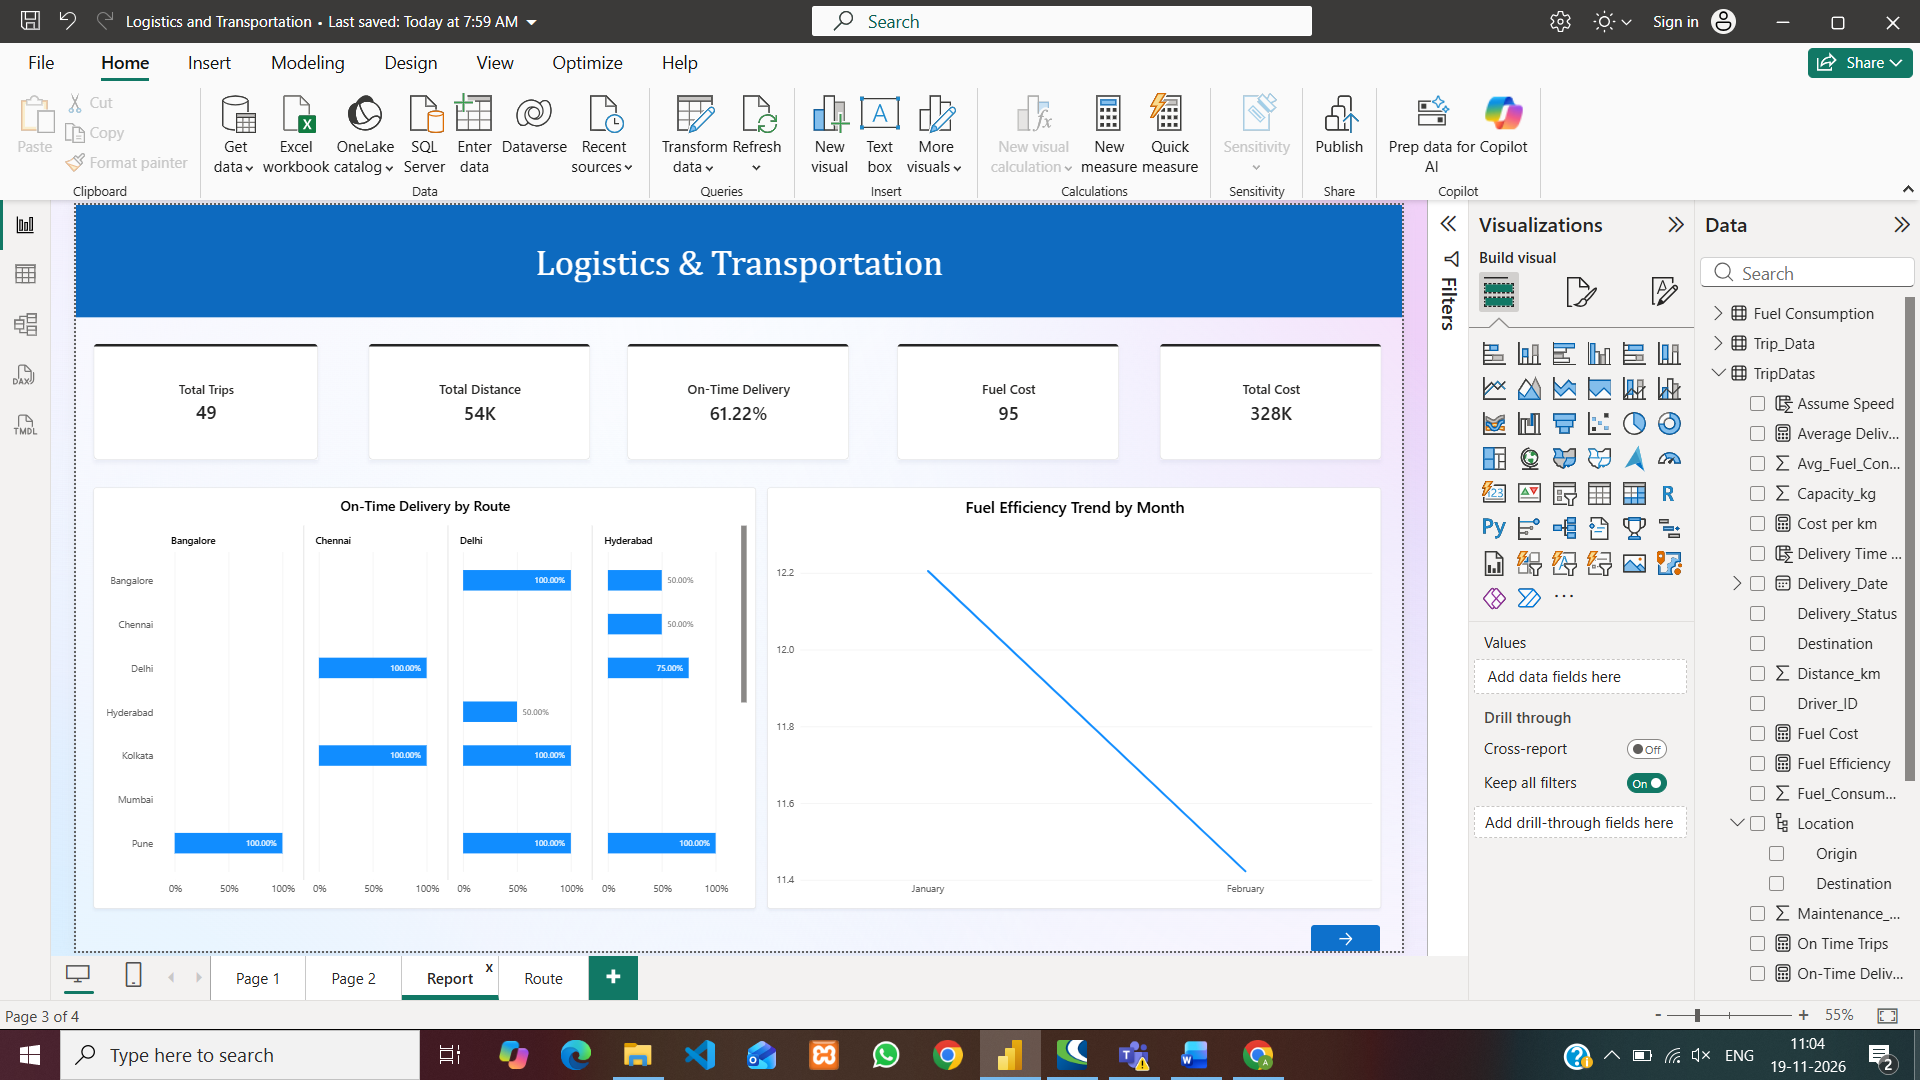

The dashboard page shown, as its layout file describes it:
{"tool":"powerbi","page":{"name":"Report","canvas":[1920,1080],"ordinal":2},"visuals":[{"type":"shape","title":"Logistics & Transportation","box":[0,0,1920.4,162.6],"z":0},{"type":"clusteredBarChart","title":"On-Time Delivery by Route","fields":{"Category":["TripDatas.Destination"],"Rows":["TripDatas.Origin"],"Y":["TripDatas.On-Time Delivery"]},"box":[24.7,409.6,959.2,609.3],"z":1},{"type":"cardVisual","fields":{"Data":["TripDatas.Total Trips"]},"box":[24.7,201.7,325.2,168.8],"z":2},{"type":"cardVisual","fields":{"Data":["TripDatas.Total Distance"]},"box":[424,201.7,321.1,168.8],"z":3},{"type":"cardVisual","fields":{"Data":["TripDatas.On-Time Delivery"]},"box":[798.6,201.7,321.1,168.8],"z":4},{"type":"cardVisual","fields":{"Data":["TripDatas.Total Cost"]},"box":[1568.4,201.7,321.1,168.8],"z":5},{"type":"cardVisual","fields":{"Data":["TripDatas.Fuel Cost"]},"box":[1189.7,201.7,321.1,168.8],"z":6},{"type":"lineChart","title":"Fuel Efficiency Trend by Month","fields":{"Category":["TripDatas.Delivery_Date.Variation.Date Hierarchy.Month"],"Y":["TripDatas.Fuel Efficiency"]},"box":[1000.3,409.6,889.2,609.3],"z":7},{"type":"actionButton","box":[1788.7,1041.5,100,40],"z":8}]}

Visuals, with their boxes on the page's 1920x1080 design canvas (x1, y1, x2, y2). These are canvas units, not pixel positions in the 1920x1080 screenshot, which may show the page scaled, cropped or inside an application window:
"Logistics & Transportation" shape: (left=0, top=0, right=1920, bottom=163)
"On-Time Delivery by Route" clusteredBarChart: (left=25, top=410, right=984, bottom=1019)
cardVisual - TripDatas.Total Trips: (left=25, top=202, right=350, bottom=370)
cardVisual - TripDatas.Total Distance: (left=424, top=202, right=745, bottom=370)
cardVisual - TripDatas.On-Time Delivery: (left=799, top=202, right=1120, bottom=370)
cardVisual - TripDatas.Total Cost: (left=1568, top=202, right=1890, bottom=370)
cardVisual - TripDatas.Fuel Cost: (left=1190, top=202, right=1511, bottom=370)
"Fuel Efficiency Trend by Month" lineChart: (left=1000, top=410, right=1890, bottom=1019)
actionButton: (left=1789, top=1042, right=1889, bottom=1082)
